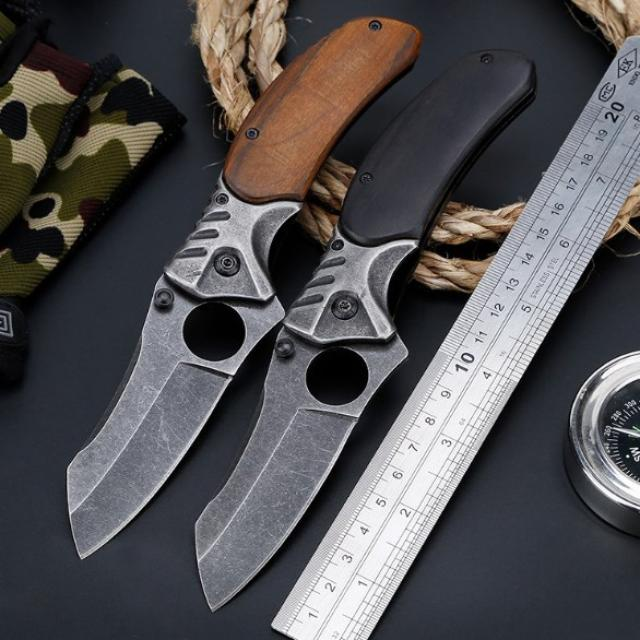Pisau: (166, 42, 565, 614)
